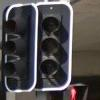traffic lights: (39, 3, 73, 92)
